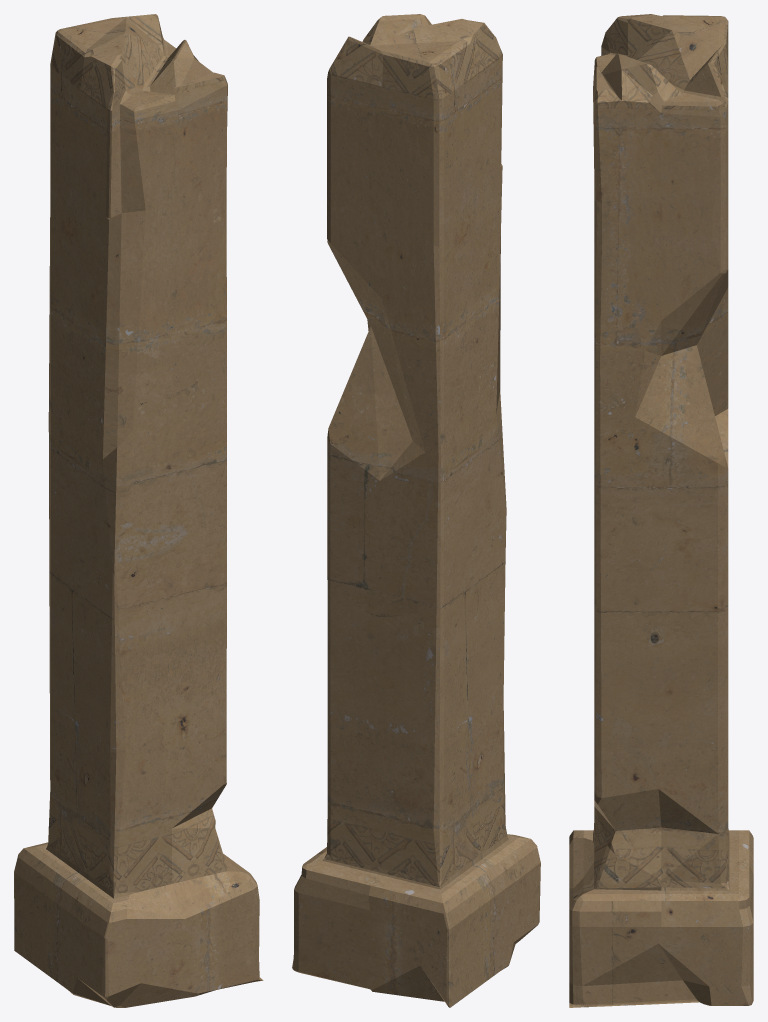
The model's file is SM_Fence_03.fbx.
3 renders of one model, left to right at view 1: azimuth 30°, elevation 25°; view 2: azimuth 150°, elevation 25°; view 3: azimuth 270°, elevation 25°, orthographic.
Parts seen in each view (by area): view 1: SM_Fence_03; view 2: SM_Fence_03; view 3: SM_Fence_03.
Boxes of the visible parts, <box> form: SM_Fence_03: <box>14,14,263,1007</box>; SM_Fence_03: <box>292,14,540,1007</box>; SM_Fence_03: <box>569,14,753,1007</box>.
Size of the model in its own units: 20 by 112 by 20.03.
